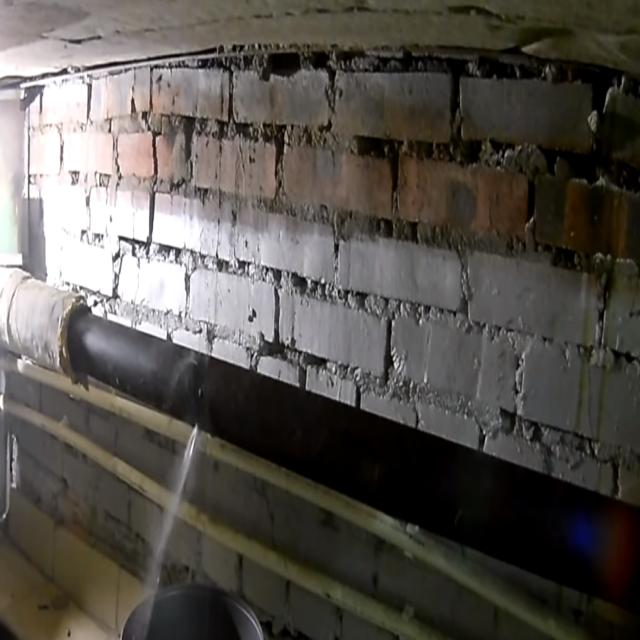leak: (140, 425, 199, 636)
